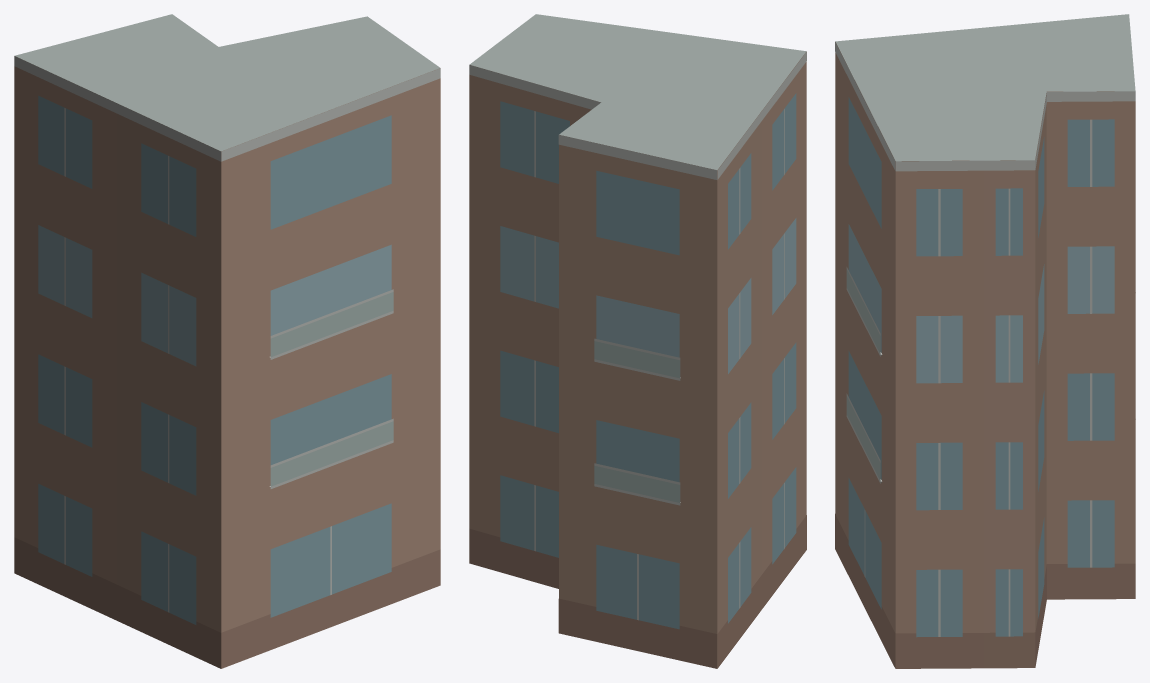
File: survey-upis-32463426.glb
3 renders of one model, left to right at view 1: azimuth 30°, elevation 25°; view 2: azimuth 150°, elevation 25°; view 3: azimuth 270°, elevation 25°, orthographic. The views are drawn at different scales.
Visible parts, largest first — view 1: survey-upis-32463426.tmp; view 2: survey-upis-32463426.tmp; view 3: survey-upis-32463426.tmp.
Boxes of the visible parts, bbox=[...] form: survey-upis-32463426.tmp: bbox=[14, 14, 440, 668]; survey-upis-32463426.tmp: bbox=[469, 14, 806, 668]; survey-upis-32463426.tmp: bbox=[835, 14, 1135, 668].
Size of the model in its own units: 7.59 by 12.2 by 6.55.
